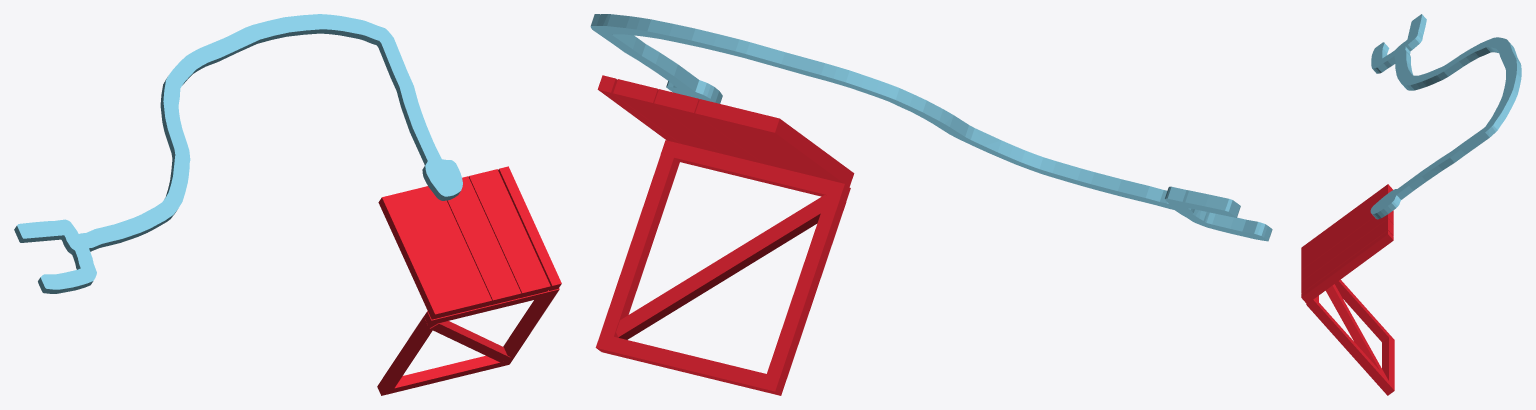
The model's file is tinker.obj.
3 renders of one model, left to right at view 1: azimuth 30°, elevation 25°; view 2: azimuth 150°, elevation 25°; view 3: azimuth 270°, elevation 25°, orthographic. The views are drawn at different scales.
Visible parts, largest first — view 1: group_0_15277357, group_0_8768998; view 2: group_0_15277357, group_0_8768998; view 3: group_0_15277357, group_0_8768998.
Boxes of the visible parts, <box> form: group_0_15277357: <box>377,166,561,395</box>; group_0_8768998: <box>14,14,462,293</box>; group_0_15277357: <box>595,75,854,395</box>; group_0_8768998: <box>590,14,1272,241</box>; group_0_15277357: <box>1301,184,1394,395</box>; group_0_8768998: <box>1370,14,1521,219</box>.
Size of the model in its own units: 596 by 392 by 296.
